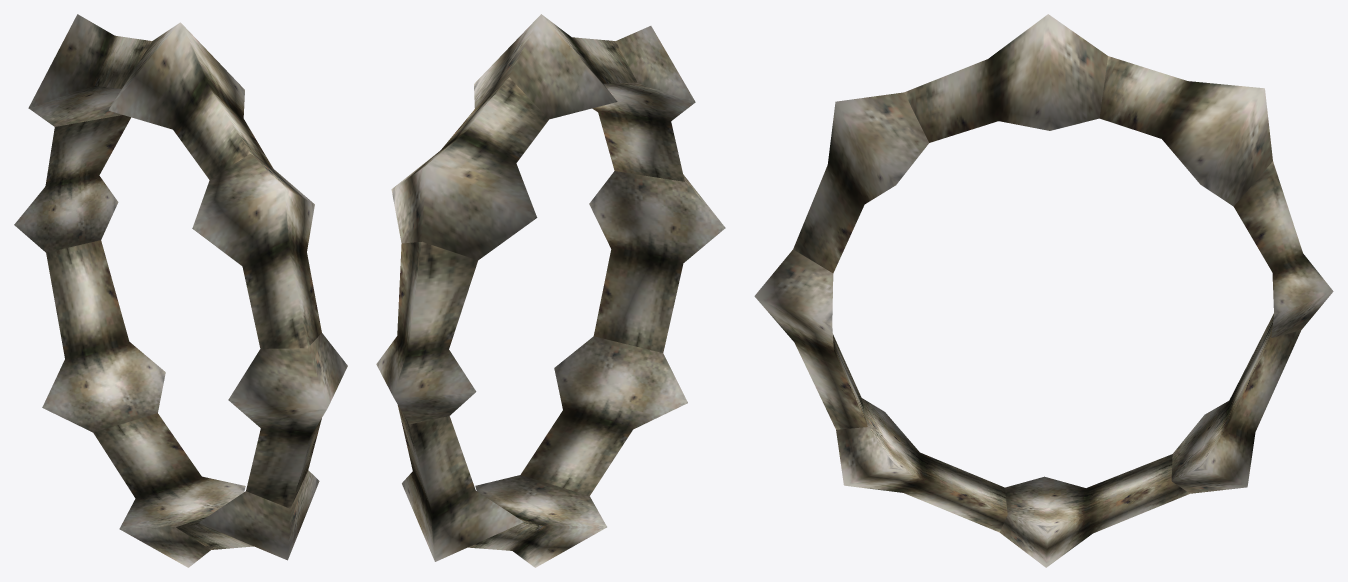
File: ring_primitive_s01_l0.fbx
The picture shows the model from 3 angles, left to right: view 1: azimuth 30°, elevation 25°; view 2: azimuth 150°, elevation 25°; view 3: azimuth 270°, elevation 25°; orthographic projection.
Visible parts, largest first — view 1: mesh_node; view 2: mesh_node; view 3: mesh_node.
Boxes of the visible parts, bbox=[...] form: mesh_node: bbox=[14, 14, 347, 567]; mesh_node: bbox=[376, 14, 725, 567]; mesh_node: bbox=[754, 14, 1333, 567].
Size of the model in its own units: 0.017 by 0.0609 by 0.058.
Materials: 1 (1 with a texture image).
